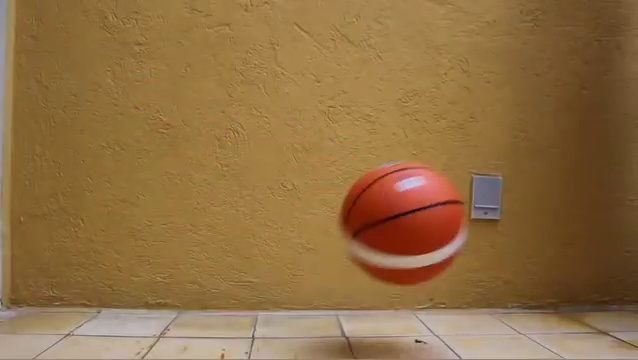ball: (339, 159, 466, 288)
